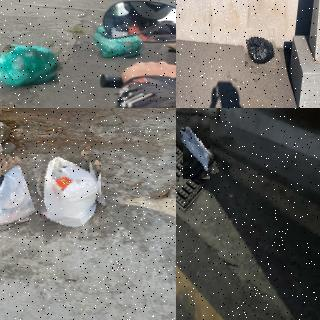Garbage: (23, 149, 107, 241), (0, 33, 61, 90), (0, 162, 43, 228), (178, 116, 215, 180), (93, 24, 145, 62), (242, 27, 279, 71)
